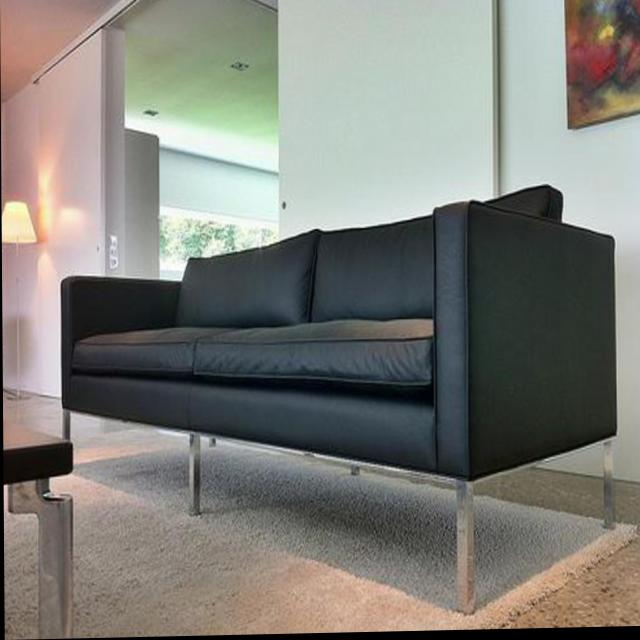Sofa: (54, 186, 616, 615)
